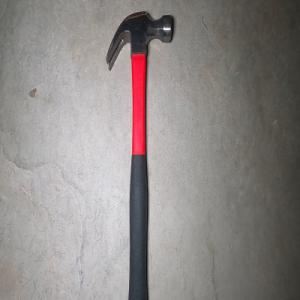Hammer: (104, 10, 173, 300)
